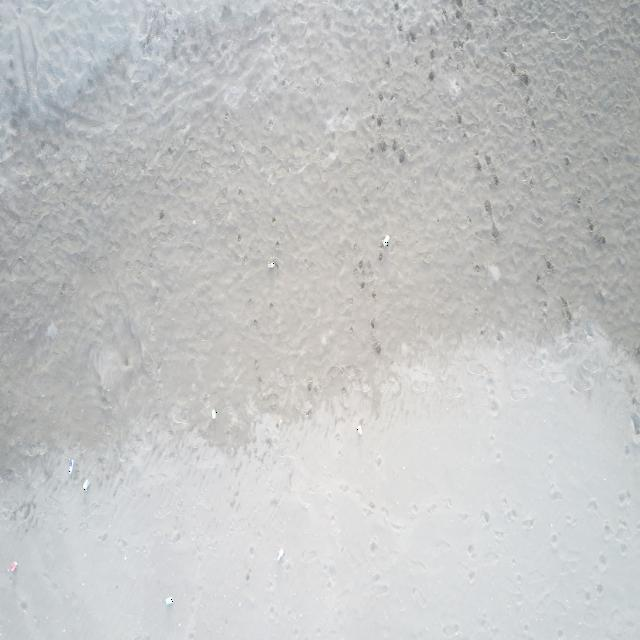tin-and-aluminum-cans: (274, 546, 284, 564), (380, 234, 390, 250), (164, 595, 174, 607), (9, 561, 19, 572), (356, 422, 363, 437), (82, 478, 90, 491), (68, 458, 74, 475), (266, 262, 274, 272), (211, 408, 217, 421)
